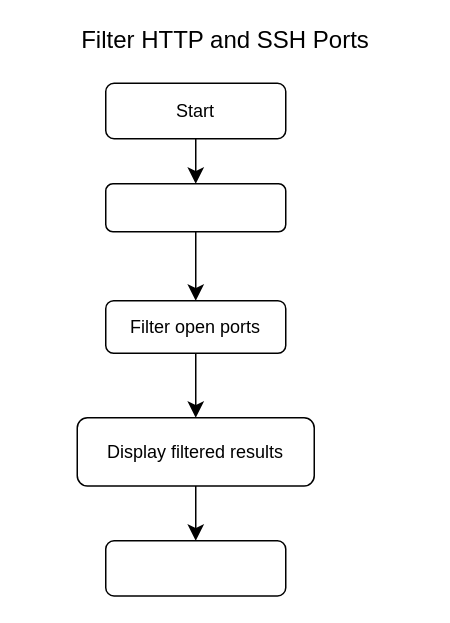
The diagram is 450 pixels wide and 623 high, and some of its shapes have lost their labels. Here are the shapes that lost their labels. From the top down, the centre of each, then its label:
point (195, 207): Get open ports
point (195, 567): end
